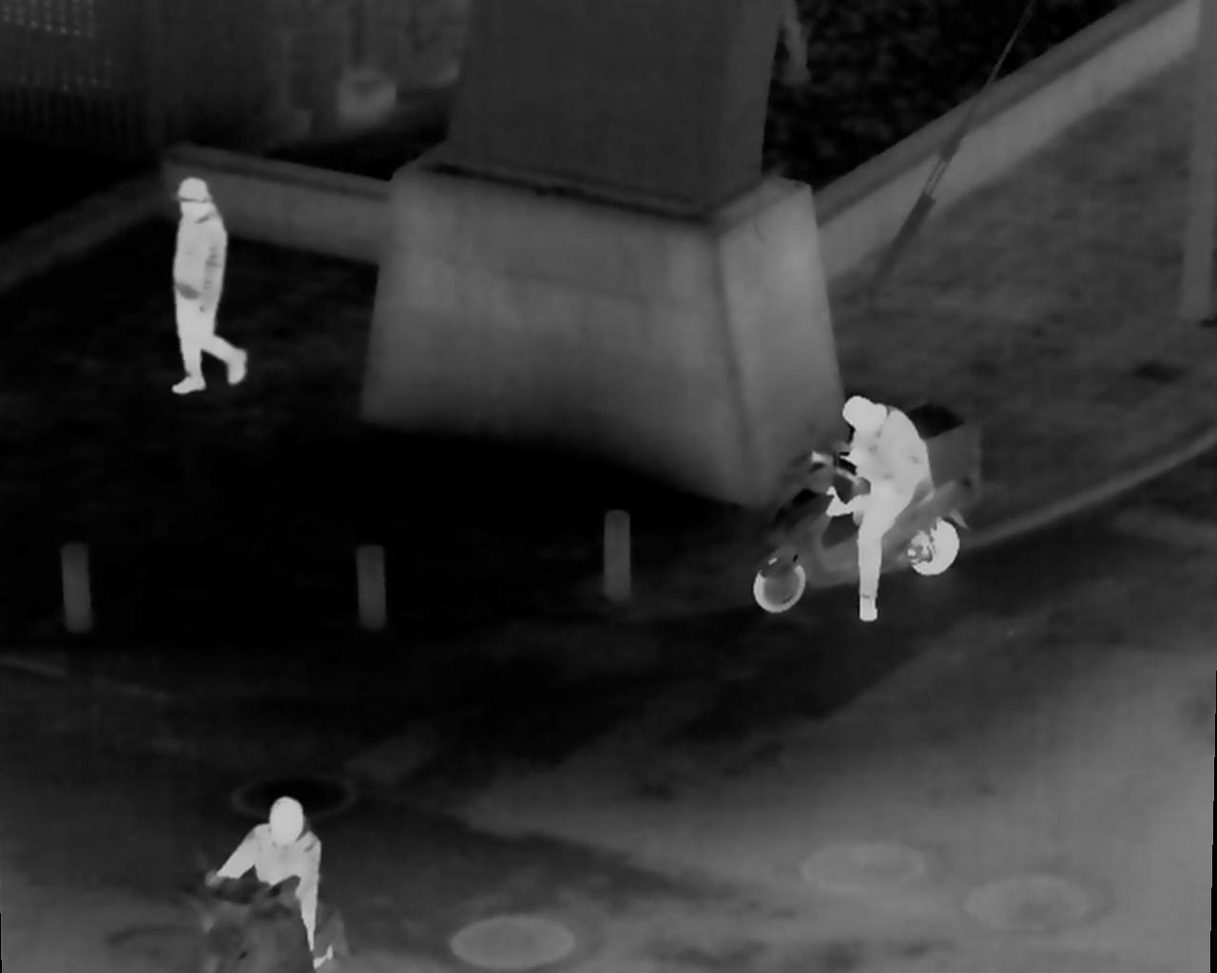person: (824, 380, 945, 626), (161, 178, 255, 396), (212, 793, 327, 966)
